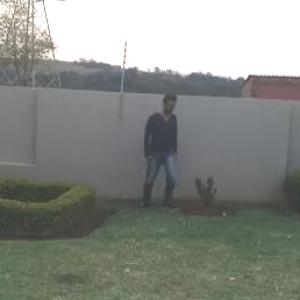follow: (141, 89, 178, 213)
